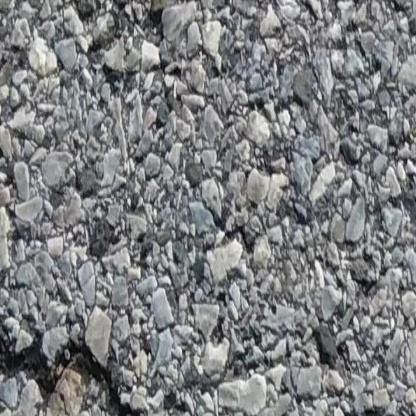Cracks: (0, 313, 143, 416), (355, 406, 416, 416)
